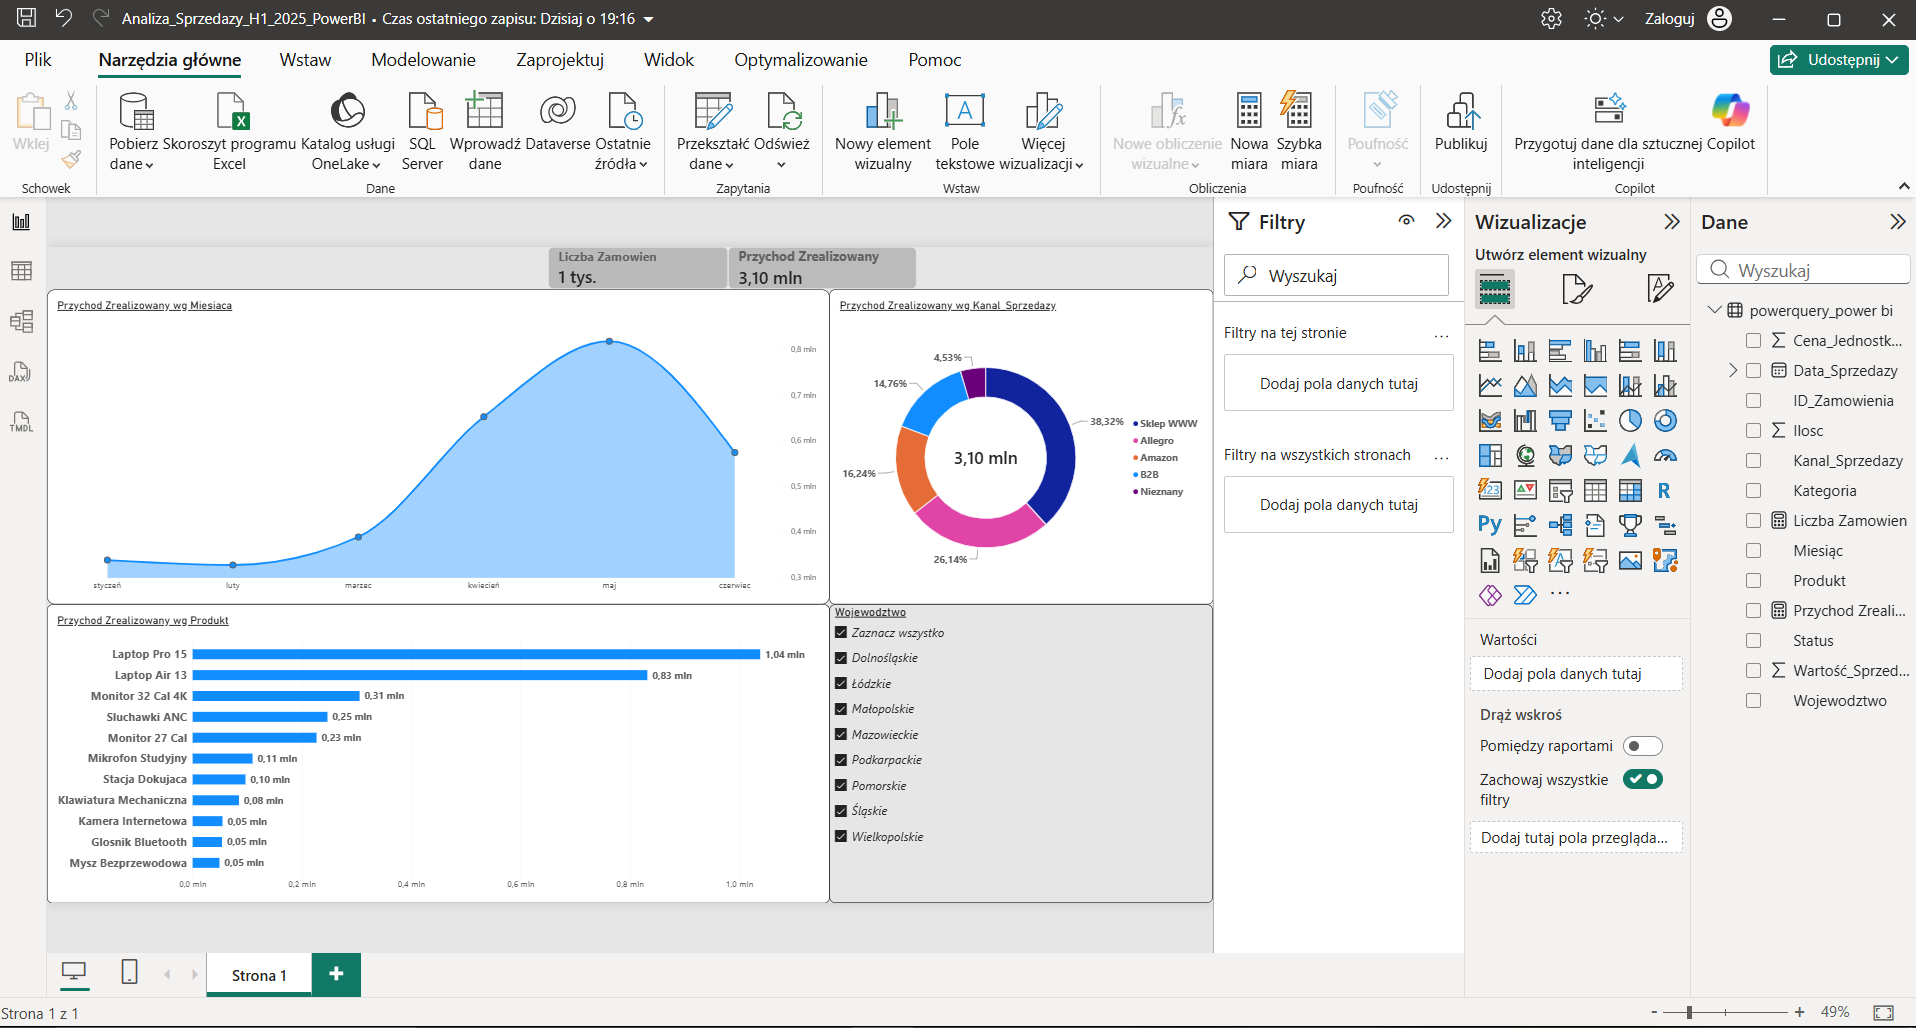

The dashboard page shown, as its layout file describes it:
{"tool":"powerbi","page":{"name":"Strona 1","canvas":[1920,1080],"ordinal":0},"visuals":[{"type":"cardVisual","fields":{"Data":["powerquery_power bi.Przychod Zrealizowany"]},"box":[1121.8,0,310.8,70],"z":0},{"type":"cardVisual","fields":{"Data":["powerquery_power bi.Liczba Zamowien"]},"box":[825.4,0,296.4,70],"z":1000},{"type":"lineChart","title":"Przychod Zrealizowany wg Miesiaca","fields":{"Category":["powerquery_power bi.Data_Sprzedazy.Variation.Hierarchia dat.Miesiąc"],"Y2":["powerquery_power bi.Przychod Zrealizowany"]},"box":[0,70,1288.5,518.7],"z":2000},{"type":"clusteredBarChart","fields":{"Category":["powerquery_power bi.Produkt"],"Y":["powerquery_power bi.Przychod Zrealizowany"]},"box":[0,588.7,1288.5,491.9],"z":3000},{"type":"donutChart","fields":{"Category":["powerquery_power bi.Kanal_Sprzedazy"],"Y":["powerquery_power bi.Przychod Zrealizowany"]},"box":[1288.5,70,631.9,518.7],"z":4000},{"type":"slicer","fields":{"Values":["powerquery_power bi.Wojewodztwo"]},"box":[1289,589,631,491],"z":5000}]}

Visuals, with their boxes on the page's 1920x1080 design canvas (x1, y1, x2, y2). These are canvas units, not pixel positions in the 1916x1028 screenshot, which may show the page scaled, cropped or inside an application window:
cardVisual - powerquery_power bi.Przychod Zrealizowany: [1122,0,1433,70]
cardVisual - powerquery_power bi.Liczba Zamowien: [825,0,1122,70]
"Przychod Zrealizowany wg Miesiaca" lineChart: [0,70,1288,589]
clusteredBarChart - powerquery_power bi.Produkt x powerquery_power bi.Przychod Zrealizowany: [0,589,1288,1081]
donutChart - powerquery_power bi.Kanal_Sprzedazy x powerquery_power bi.Przychod Zrealizowany: [1288,70,1920,589]
slicer - powerquery_power bi.Wojewodztwo: [1289,589,1920,1080]
